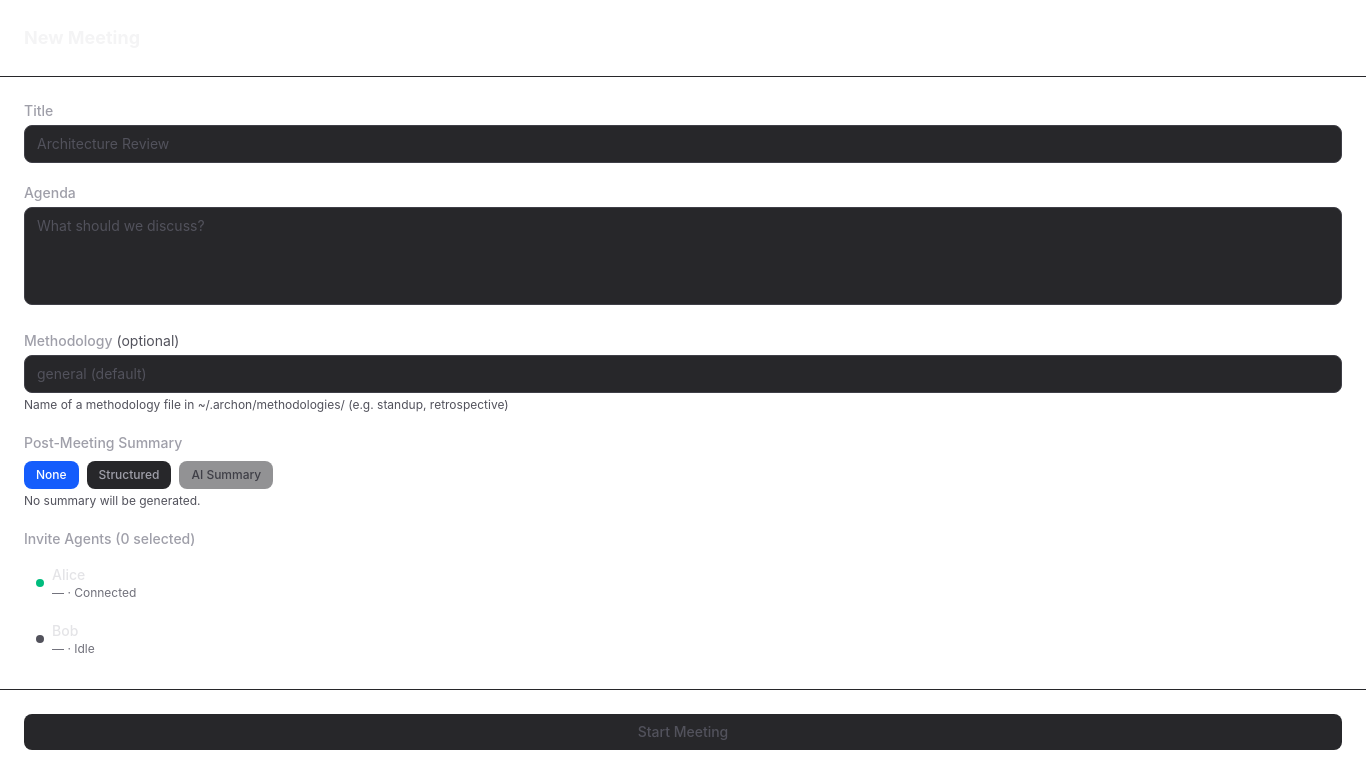
Test: MeetingLauncher › enables start button with title and selected agent
Type "Sprint Review" into the field with placeholder "Architecture Review".
click(683, 144); type("Sprint Review")  # box [24, 125, 1342, 163]
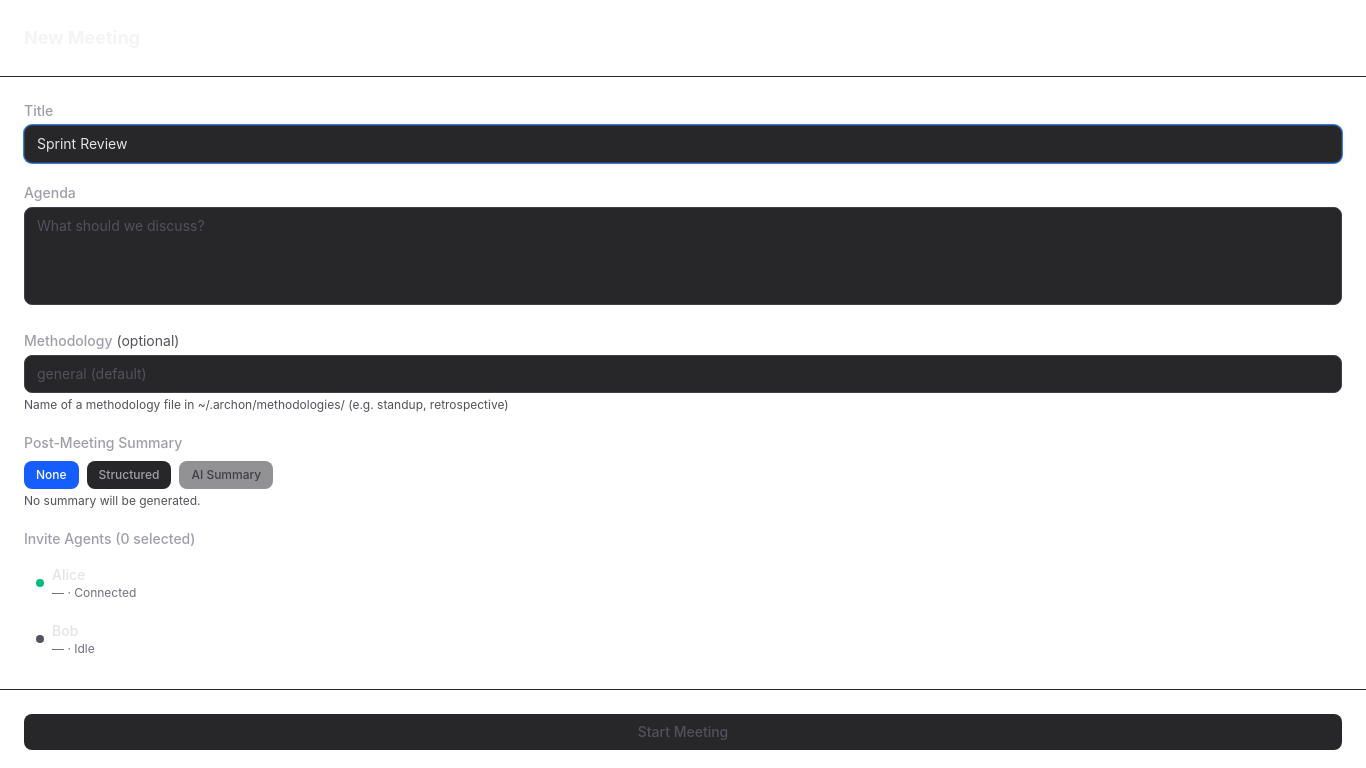
Click on Alice to select her
Click the button "Alice — · Connected".
click(69, 574)  # box [24, 557, 1342, 609]
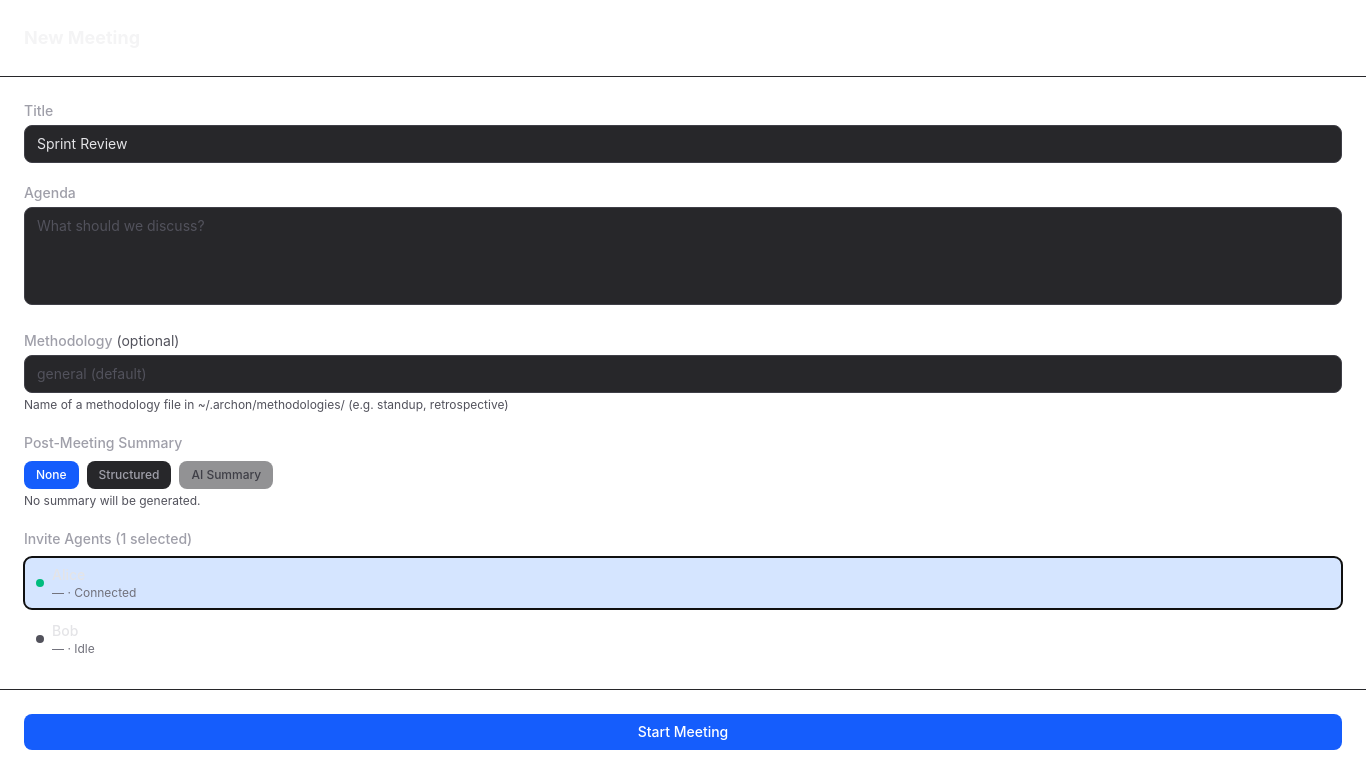
Result: the button "Start Meeting" is enabled at [24, 714, 1342, 750]
